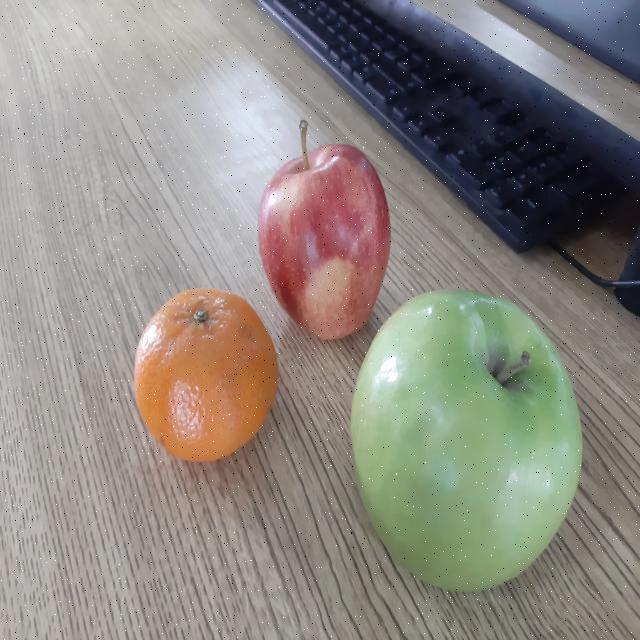Apel Gala: (254, 114, 396, 348)
Apel Granny Smith: (347, 286, 585, 594)
Jeruk Mandarin: (134, 284, 280, 468)
